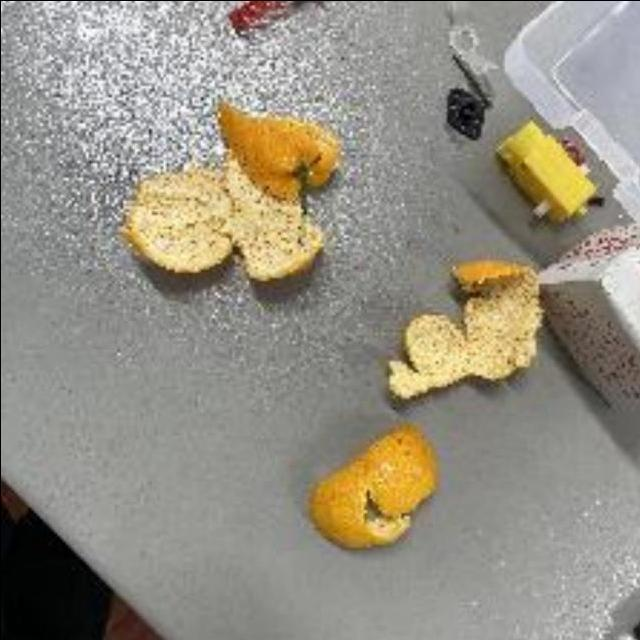orange peel: (112, 100, 342, 282), (380, 257, 548, 412), (296, 426, 447, 554)
